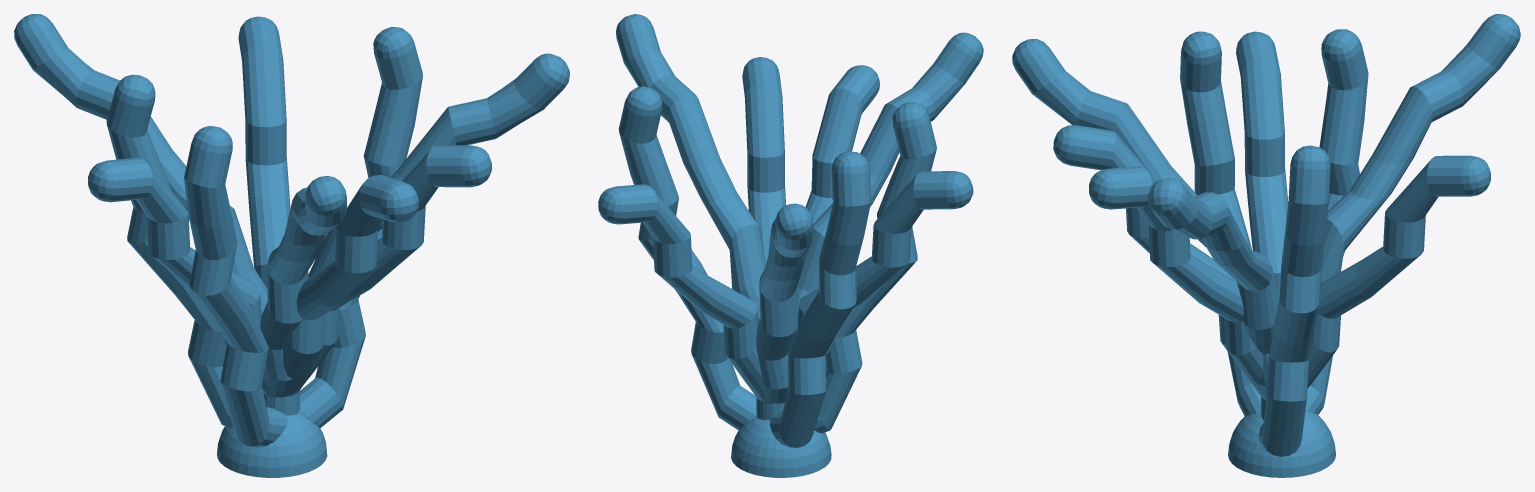
3 renders of one model, left to right at view 1: azimuth 30°, elevation 25°; view 2: azimuth 150°, elevation 25°; view 3: azimuth 270°, elevation 25°, orthographic. The views are drawn at different scales.
Parts seen in each view (by area): view 1: Cube.009; view 2: Cube.009; view 3: Cube.009.
Part boxes in pixels (bbox=[...]): Cube.009: bbox=[14, 14, 569, 477]; Cube.009: bbox=[598, 14, 983, 477]; Cube.009: bbox=[1012, 14, 1520, 477].
Size of the model in its own units: 1.07 by 0.9181 by 1.12.
